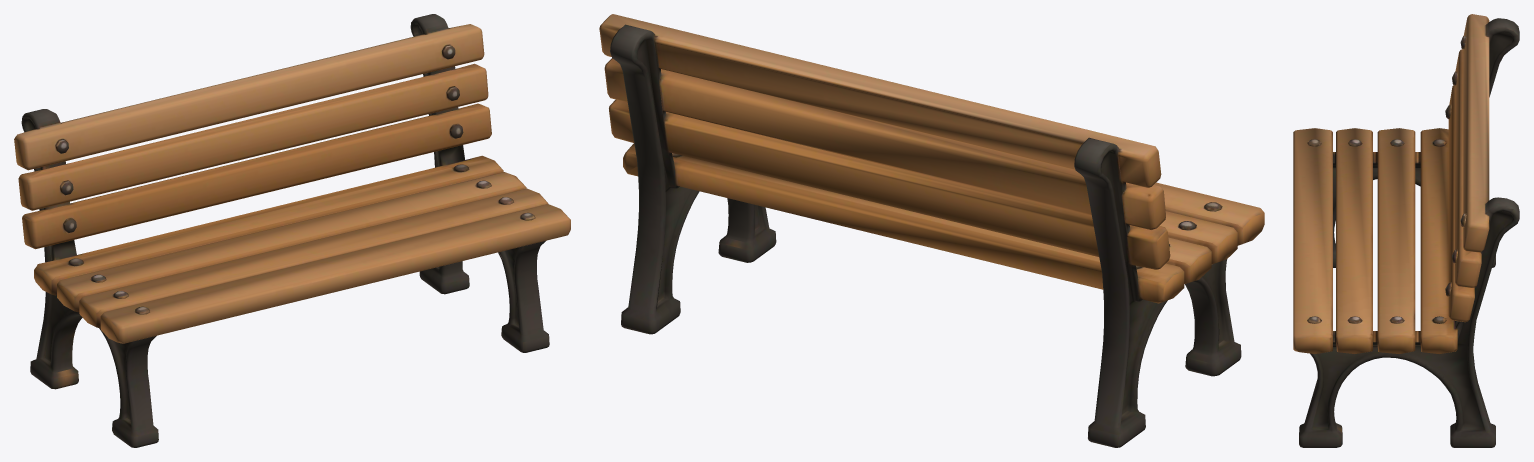
Rendered from Outside__CityBench3.cluster.glb.
3 views of the same model, side by side, from view 1: azimuth 30°, elevation 25°; view 2: azimuth 150°, elevation 25°; view 3: azimuth 270°, elevation 25° (orthographic). The views are drawn at different scales.
Parts seen in each view (by area): view 1: CityBench3; view 2: CityBench3; view 3: CityBench3.
Boxes of the visible parts, x1,y1,x2,y2 form: CityBench3: (14, 14, 570, 447); CityBench3: (599, 14, 1264, 447); CityBench3: (1293, 14, 1519, 447).
Size of the model in its own units: 1.9 by 1.01 by 0.8611.
Materials: 1 (1 with a texture image).
